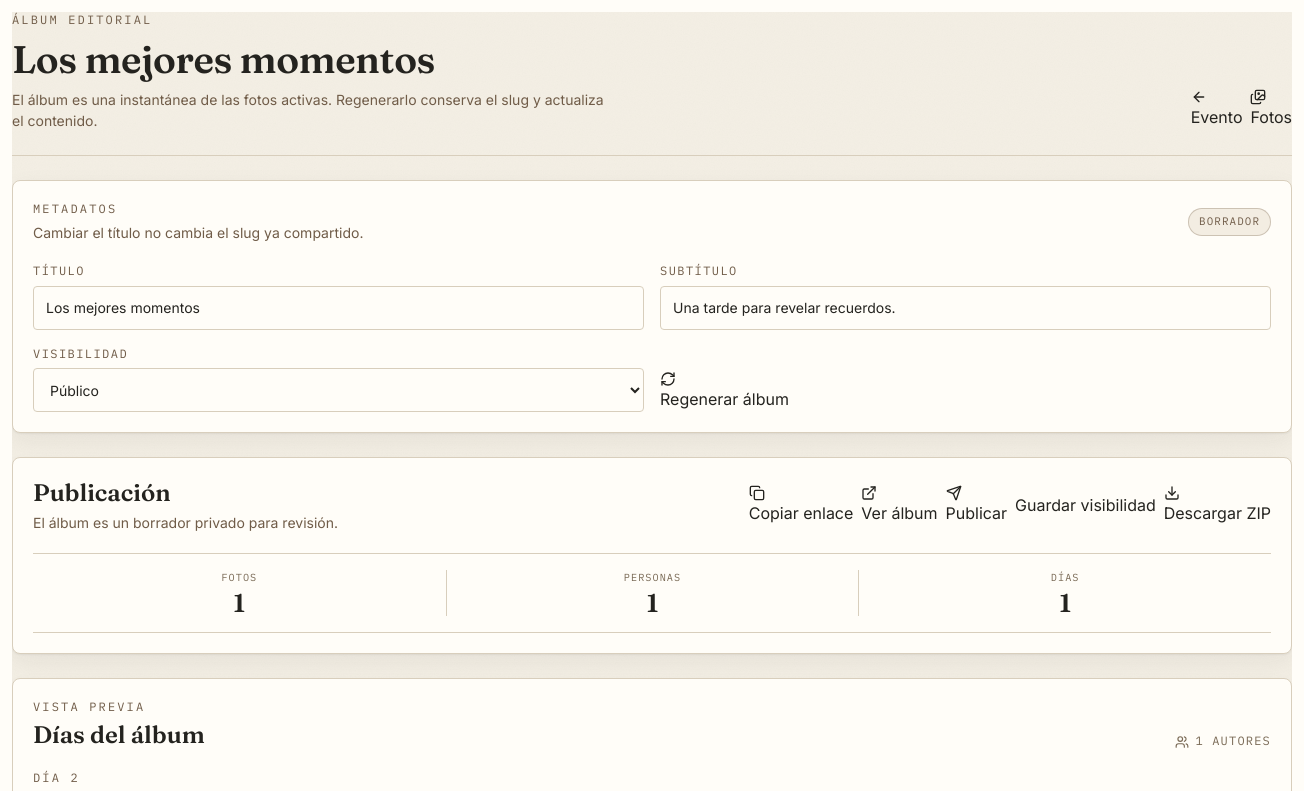
Test: AdminAlbumPage › muestra la vista previa y publica el álbum
Check: the heading "Los mejores momentos" is shown, box 12,35 -> 435,83
Click the button "Publicar".
click(976, 506)  # box 946,485 -> 1007,527
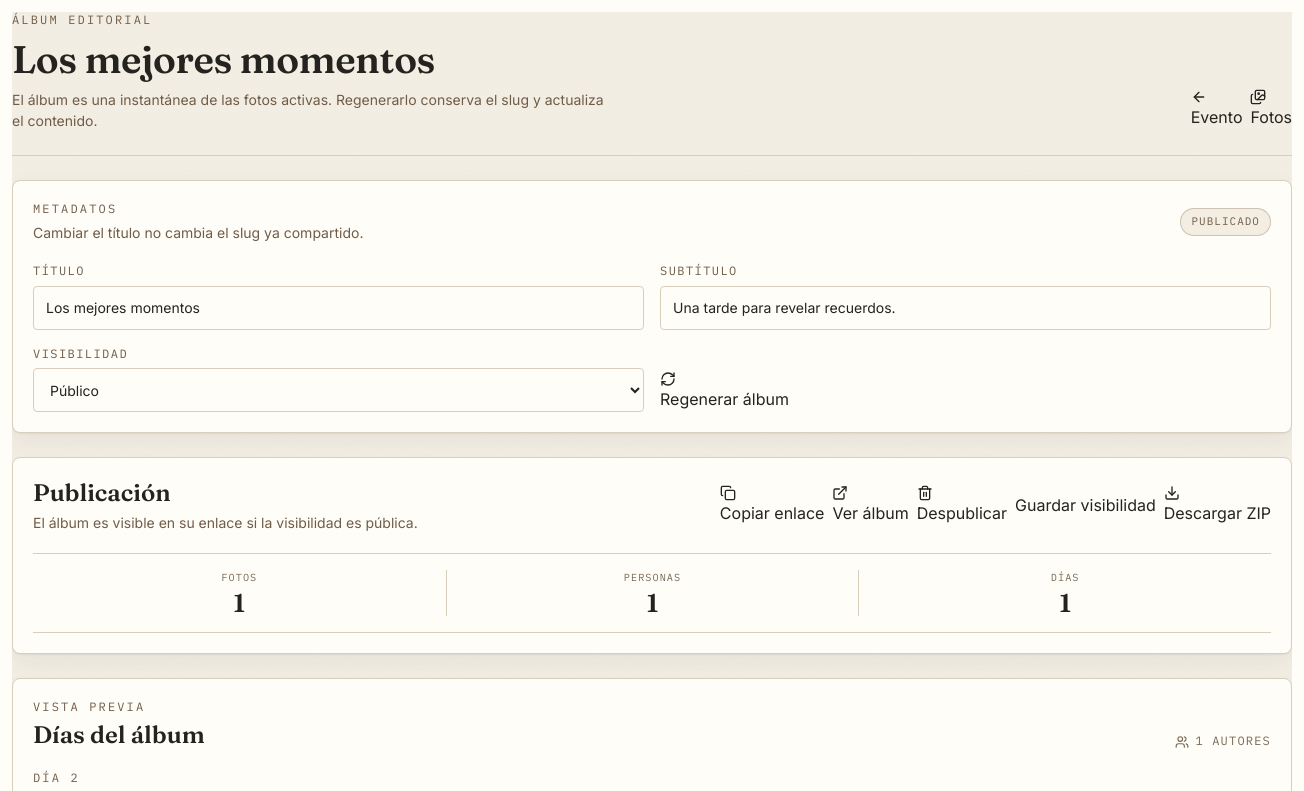
Check: the text "Publicado" is shown, box 1180,208 -> 1271,236
